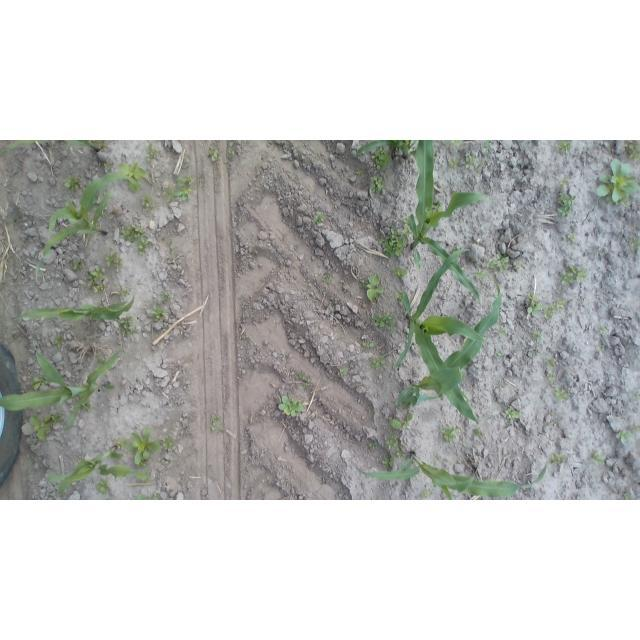Maize: (395, 250, 492, 424), (391, 278, 502, 408), (407, 140, 485, 298), (35, 172, 140, 279), (1, 340, 124, 427), (354, 452, 546, 500), (45, 444, 151, 496), (12, 288, 135, 331), (357, 140, 491, 172), (0, 140, 100, 156)
Weeds: (596, 159, 640, 208), (127, 428, 161, 469), (380, 223, 413, 258), (117, 162, 145, 193), (359, 274, 384, 303), (30, 413, 52, 441), (172, 176, 194, 202), (278, 396, 304, 417), (562, 265, 588, 286), (543, 297, 565, 319), (372, 148, 392, 171), (526, 291, 543, 317), (557, 194, 576, 217), (487, 254, 510, 273), (119, 315, 137, 338), (120, 226, 144, 243), (389, 413, 413, 430), (136, 234, 153, 254), (88, 266, 104, 287), (374, 314, 395, 330), (64, 175, 81, 194), (152, 305, 169, 324), (163, 238, 177, 261), (30, 374, 48, 391), (441, 425, 459, 442), (626, 141, 640, 162), (209, 414, 223, 435), (104, 251, 120, 268), (616, 430, 635, 444), (147, 142, 160, 162), (141, 194, 156, 211), (555, 140, 572, 154), (369, 357, 386, 371), (96, 481, 111, 496), (371, 176, 384, 193), (591, 451, 605, 466), (550, 453, 566, 466), (115, 436, 129, 450), (162, 436, 176, 450), (504, 406, 520, 418), (136, 492, 159, 500), (382, 455, 395, 469), (385, 436, 399, 449), (52, 412, 65, 426), (465, 154, 477, 168), (555, 387, 567, 401), (209, 146, 219, 162), (79, 400, 91, 413), (393, 268, 408, 278), (630, 236, 640, 251), (73, 258, 85, 270), (117, 285, 128, 298), (52, 333, 62, 347), (314, 211, 325, 223), (431, 203, 443, 214), (395, 447, 406, 459), (475, 269, 487, 279), (298, 372, 310, 382), (531, 329, 541, 341), (93, 283, 104, 293), (422, 488, 432, 499), (161, 292, 172, 302), (559, 178, 568, 190), (568, 232, 577, 244), (93, 140, 104, 149), (321, 274, 332, 283), (402, 399, 410, 411), (104, 160, 113, 170), (449, 159, 458, 169), (546, 357, 555, 367), (548, 373, 557, 382), (600, 326, 609, 335), (105, 382, 115, 390), (361, 342, 374, 348), (396, 291, 403, 302), (624, 493, 635, 500), (12, 219, 20, 228), (450, 140, 462, 146), (514, 260, 523, 268), (474, 428, 482, 437), (499, 328, 508, 336), (340, 367, 347, 377), (162, 187, 170, 195), (167, 194, 175, 202), (226, 148, 234, 156), (369, 442, 378, 449), (434, 455, 442, 462), (599, 344, 605, 353), (403, 217, 410, 224), (633, 393, 640, 400), (355, 170, 363, 176), (97, 358, 105, 364), (251, 245, 257, 253), (328, 301, 337, 306), (534, 349, 540, 356), (165, 459, 171, 465), (633, 428, 640, 433), (21, 238, 27, 243), (495, 351, 501, 356), (350, 363, 355, 369), (367, 406, 371, 412), (401, 442, 406, 446)
